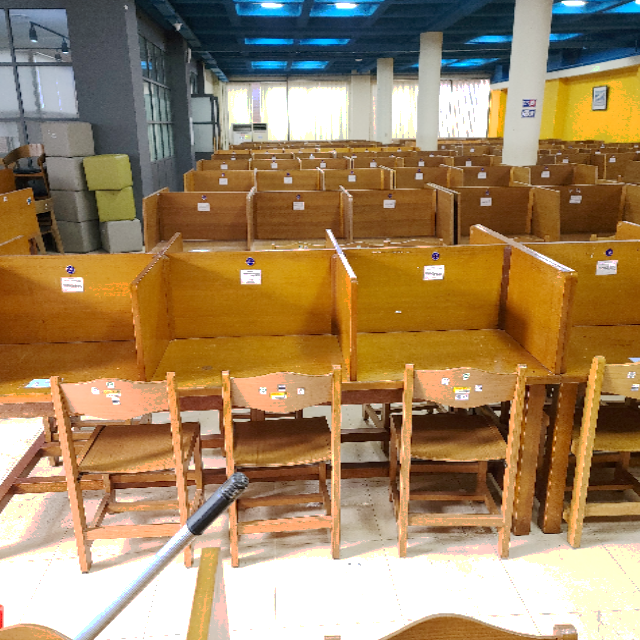empty: (142, 235, 345, 452), (352, 231, 547, 453), (1, 231, 137, 439)
